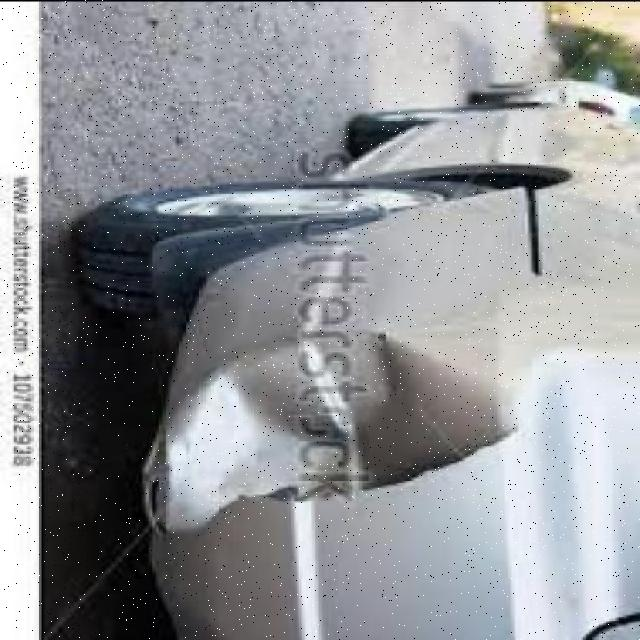damage: (138, 319, 530, 547)
